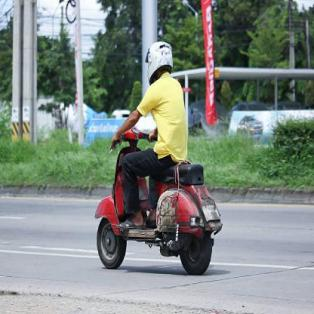Motocicleta: (89, 115, 219, 273)
